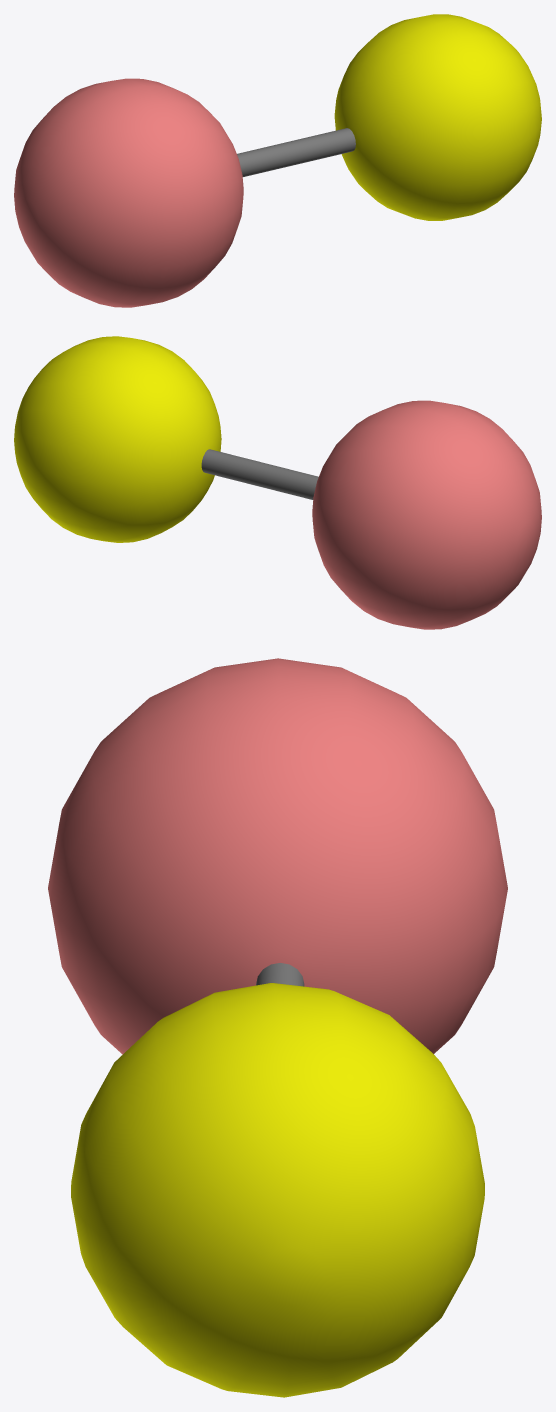
3 views of the same model, one above another, from view 1: azimuth 30°, elevation 25°; view 2: azimuth 150°, elevation 25°; view 3: azimuth 270°, elevation 25° (orthographic). The views are drawn at different scales.
Visible parts, largest first — view 1: HF; view 2: HF; view 3: HF.
Part boxes in pixels (x1,y1,x2,y2): HF: (14,14,541,307); HF: (14,336,541,629); HF: (48,658,507,1397).
Bounding box in the file's own units: 4.63 × 1.85 × 1.85.
